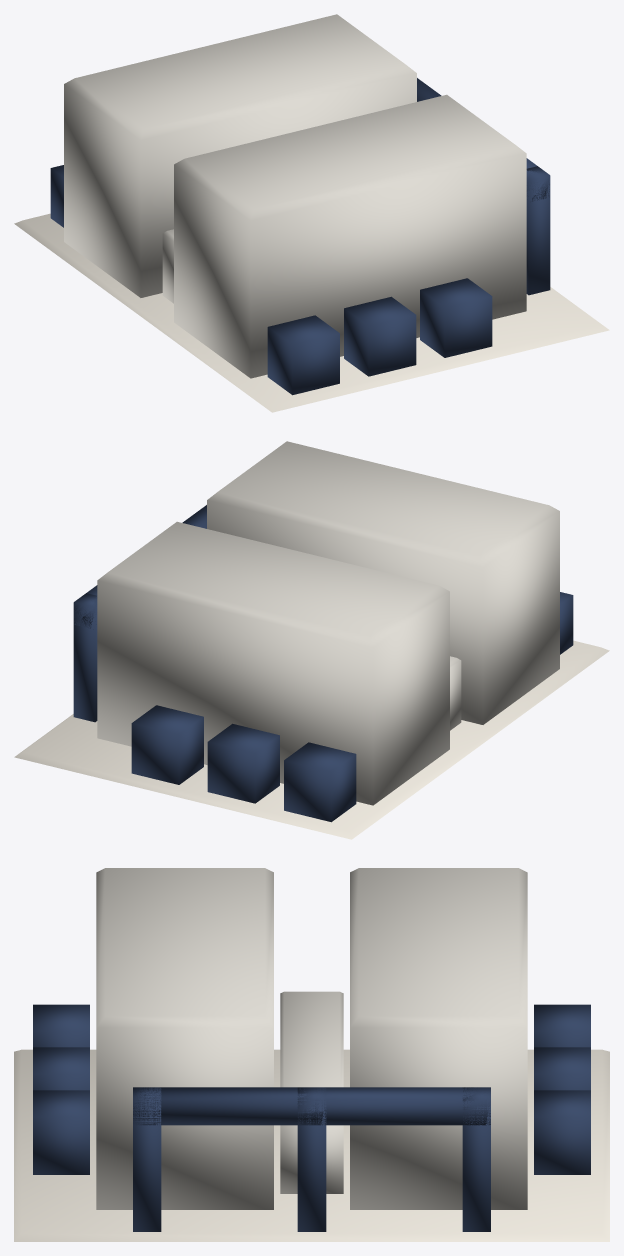
File: conversora.glb
3 renders of one model, top to bottom at view 1: azimuth 30°, elevation 25°; view 2: azimuth 150°, elevation 25°; view 3: azimuth 270°, elevation 25°, orthographic. The views are drawn at different scales.
Visible parts, largest first — view 1: conversora; view 2: conversora; view 3: conversora.
Boxes of the visible parts, box(x1,y1,x2,y2) form: conversora: box(14, 14, 609, 412); conversora: box(14, 441, 609, 839); conversora: box(14, 868, 609, 1241).
Bounding box in the file's own units: 71 × 34 × 94.
